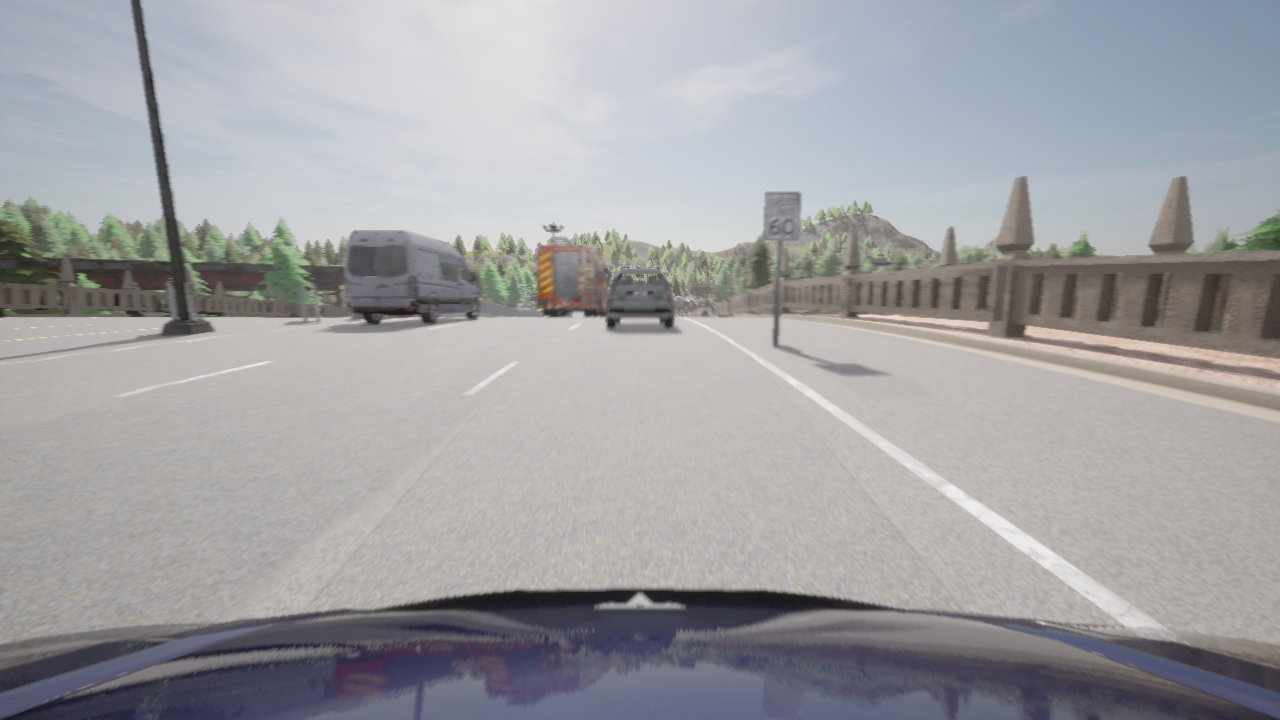cyclist: (0, 588, 1279, 719), (344, 231, 479, 323), (537, 237, 610, 316), (606, 268, 673, 328), (567, 312, 571, 316)
pedestrian: (128, 283, 140, 313)
